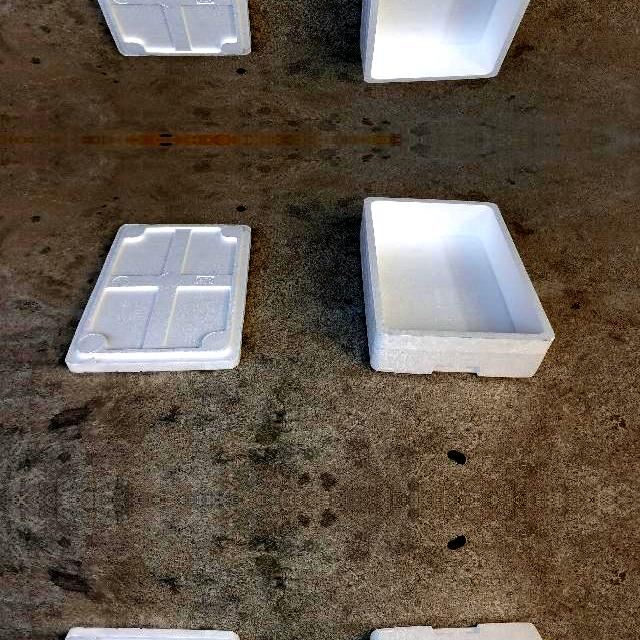Styrofoam: (360, 196, 556, 380), (361, 196, 556, 377), (64, 222, 254, 374), (65, 224, 251, 372), (360, 0, 555, 84), (361, 0, 531, 84), (64, 0, 254, 57), (97, 0, 251, 56)
